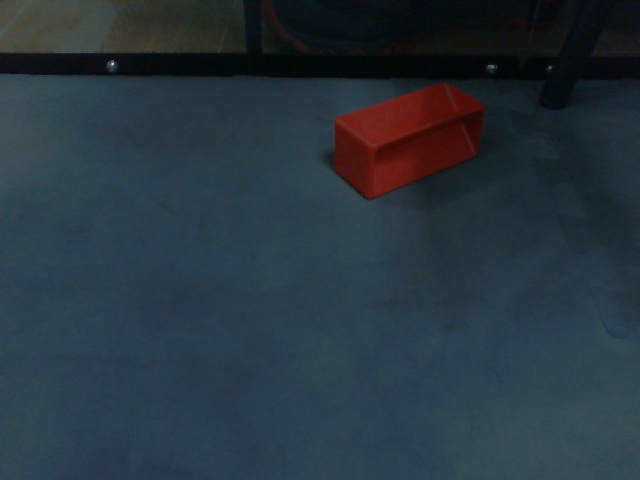RedSample: (331, 81, 486, 201)
